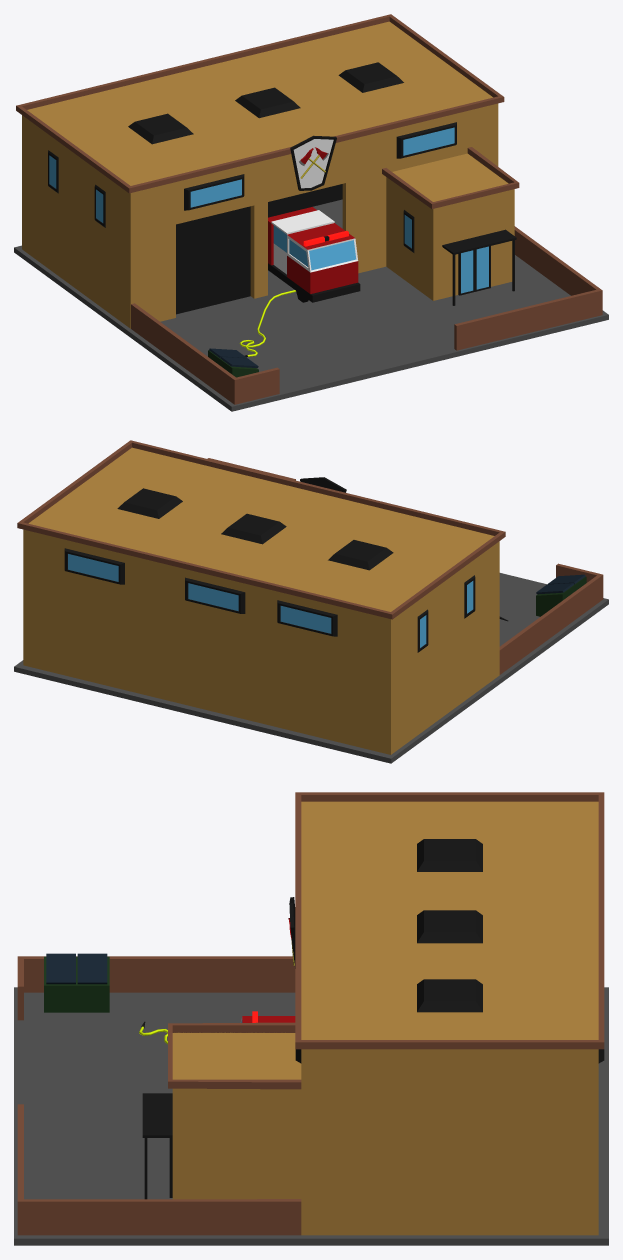
3 renders of one model, top to bottom at view 1: azimuth 30°, elevation 25°; view 2: azimuth 150°, elevation 25°; view 3: azimuth 270°, elevation 25°, orthographic. The views are drawn at different scales.
Visible parts, largest first — view 1: SER_T2_16_PERRONE_01.001, SER_T2_16_PERRONE_01; view 2: SER_T2_16_PERRONE_01.001, SER_T2_16_PERRONE_01; view 3: SER_T2_16_PERRONE_01.001, SER_T2_16_PERRONE_01.
Boxes of the visible parts, bbox=[...] form: SER_T2_16_PERRONE_01.001: bbox=[16, 14, 602, 404]; SER_T2_16_PERRONE_01: bbox=[14, 199, 608, 411]; SER_T2_16_PERRONE_01.001: bbox=[17, 440, 603, 754]; SER_T2_16_PERRONE_01: bbox=[14, 573, 608, 763]; SER_T2_16_PERRONE_01.001: bbox=[17, 792, 604, 1235]; SER_T2_16_PERRONE_01: bbox=[14, 987, 608, 1245].
Bounding box in the file's own units: 400 × 158 × 400.
